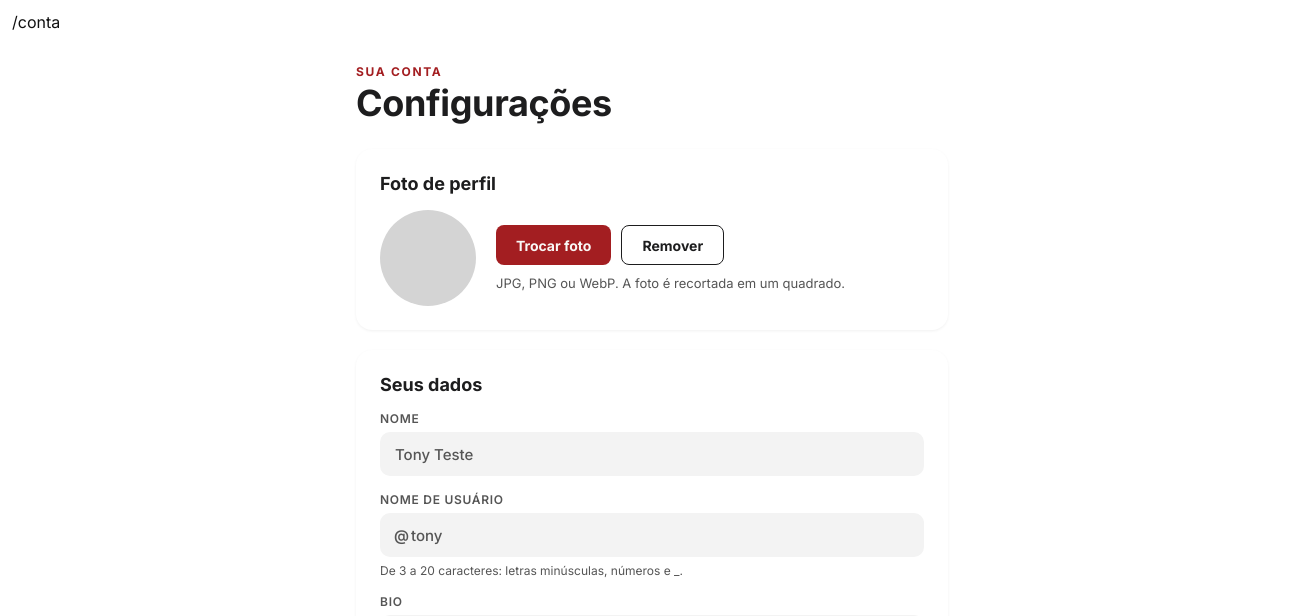
Scenario: Configurações: foto de perfil › remove a foto atual
Click the button "Remover". click: x=673, y=245
box: x1=622 y1=225 x2=724 y2=265
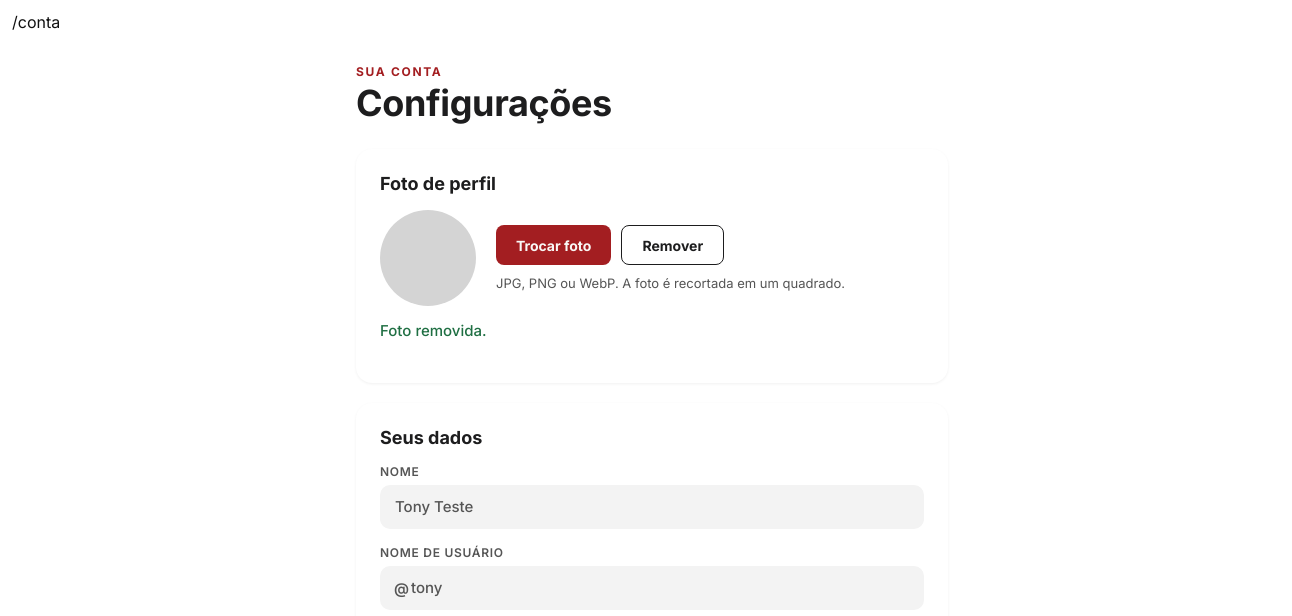
Result: the message reads "Foto removida." at x1=380 y1=321 x2=486 y2=340
